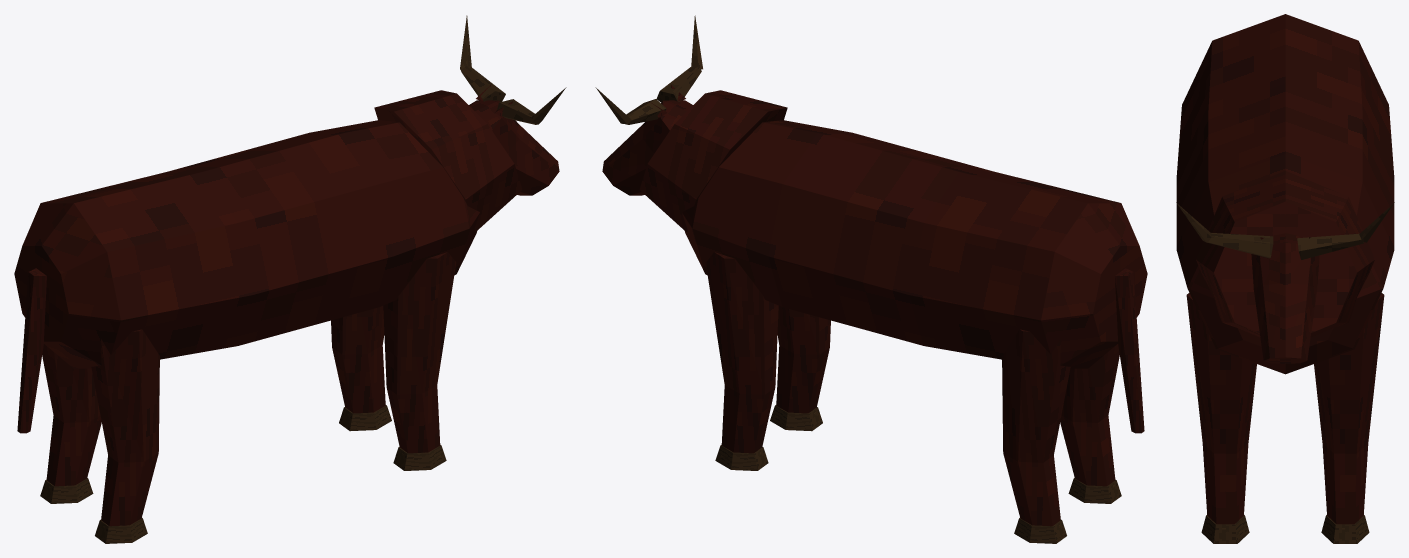
File: buey.glb
The picture shows the model from 3 angles, left to right: view 1: azimuth 30°, elevation 25°; view 2: azimuth 150°, elevation 25°; view 3: azimuth 270°, elevation 25°; orthographic projection. The views are drawn at different scales.
Visible parts, largest first — view 1: cuerpo, pata_trasera_der, pata_delantera_der, cuello, pata_trasera_izq, pata_delantera_izq, cabeza, cola, cuernos, pezuna_delantera_der, pezuna_trasera_der, pezuna_delantera_izq (+1 smaller); view 2: cuerpo, pata_trasera_izq, pata_delantera_izq, cuello, pata_trasera_der, pata_delantera_der, cabeza, cola, cuernos, pezuna_delantera_izq, pezuna_trasera_izq, pezuna_delantera_der (+1 smaller); view 3: cuerpo, cuello, pata_delantera_izq, pata_delantera_der, cabeza, cuernos, pezuna_delantera_izq, pezuna_delantera_der.
Boxes of the visible parts, x1,y1,x2,y2 form: cuerpo: [14, 120, 479, 368]; pata_trasera_der: [91, 329, 159, 526]; pata_delantera_der: [383, 252, 456, 453]; cuello: [374, 90, 522, 231]; pata_trasera_izq: [42, 344, 101, 486]; pata_delantera_izq: [331, 306, 385, 413]; cabeza: [469, 100, 559, 195]; cola: [17, 268, 46, 433]; cuernos: [460, 15, 566, 124]; pezuna_delantera_der: [393, 445, 446, 470]; pezuna_trasera_der: [95, 518, 147, 543]; pezuna_delantera_izq: [339, 405, 391, 431]; cuerpo: [682, 120, 1147, 368]; pata_trasera_izq: [1002, 329, 1070, 526]; pata_delantera_izq: [705, 252, 778, 453]; cuello: [639, 90, 787, 231]; pata_trasera_der: [1060, 344, 1119, 486]; pata_delantera_der: [776, 306, 830, 413]; cabeza: [602, 100, 692, 195]; cola: [1115, 268, 1144, 433]; cuernos: [595, 15, 702, 124]; pezuna_delantera_izq: [715, 445, 768, 470]; pezuna_trasera_izq: [1014, 518, 1066, 543]; pezuna_delantera_der: [770, 405, 822, 431]; cuerpo: [1176, 14, 1394, 374]; cuello: [1196, 171, 1374, 337]; pata_delantera_izq: [1314, 292, 1384, 524]; pata_delantera_der: [1186, 292, 1256, 524]; cabeza: [1251, 233, 1319, 363]; cuernos: [1176, 202, 1394, 259]; pezuna_delantera_izq: [1321, 515, 1369, 543]; pezuna_delantera_der: [1201, 515, 1249, 543].
Bounding box in the file's own units: 2.5 × 1.6 × 0.8.
Materials: 1 (1 with a texture image).
